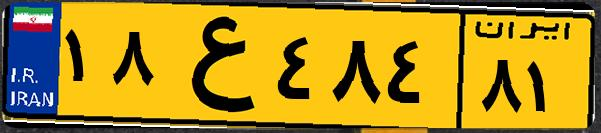1: (57, 26, 110, 100), (525, 38, 570, 115)
4: (270, 28, 330, 110), (385, 28, 445, 110)
8: (330, 28, 385, 110), (475, 38, 525, 113), (110, 28, 158, 98)
ع: (158, 12, 270, 120)
